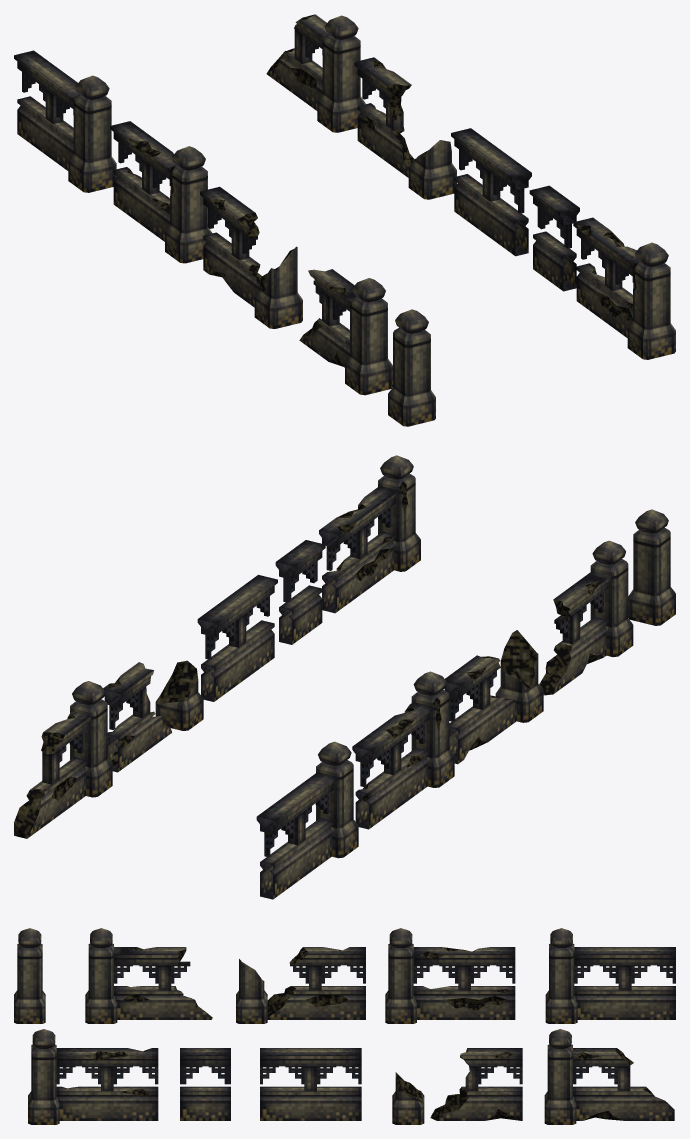
The model's file is EnvMdrMD_Desert_Exterior_Fence_A.FBX.
3 views of the same model, one above another, from view 1: azimuth 30°, elevation 25°; view 2: azimuth 150°, elevation 25°; view 3: azimuth 270°, elevation 25° (orthographic). The views are drawn at different scales.
Visible parts, largest first — view 1: EnvMdrMD_Desert_Exterior_Fence_A, EnvMdrMD_Desert_Exterior_Fence_A_Debris_Loop_A, EnvMdrMD_Desert_Exterior_Fence_A_Debris_Loop_B, EnvMdrMD_Desert_Exterior_Fence_A_Debris_R_A, EnvMdrMD_Desert_Exterior_Fence_A_Debris_L_B, EnvMdrMD_Desert_Exterior_Fence_A_Debris_R_B, EnvMdrMD_Desert_Exterior_Fence_A_Debris_L_A, EnvMdrMD_Desert_Exterior_Fence_B, EnvMdrMD_Desert_Exterior_Fence_Pillar_A, EnvMdrMD_Desert_Exterior_Fence_C; view 2: EnvMdrMD_Desert_Exterior_Fence_A_Debris_Loop_B, EnvMdrMD_Desert_Exterior_Fence_A, EnvMdrMD_Desert_Exterior_Fence_A_Debris_Loop_A, EnvMdrMD_Desert_Exterior_Fence_A_Debris_R_B, EnvMdrMD_Desert_Exterior_Fence_A_Debris_R_A, EnvMdrMD_Desert_Exterior_Fence_A_Debris_L_B, EnvMdrMD_Desert_Exterior_Fence_A_Debris_L_A, EnvMdrMD_Desert_Exterior_Fence_B, EnvMdrMD_Desert_Exterior_Fence_Pillar_A, EnvMdrMD_Desert_Exterior_Fence_C; view 3: EnvMdrMD_Desert_Exterior_Fence_A_Debris_Loop_A, EnvMdrMD_Desert_Exterior_Fence_A, EnvMdrMD_Desert_Exterior_Fence_A_Debris_Loop_B, EnvMdrMD_Desert_Exterior_Fence_A_Debris_R_A, EnvMdrMD_Desert_Exterior_Fence_A_Debris_R_B, EnvMdrMD_Desert_Exterior_Fence_A_Debris_L_B, EnvMdrMD_Desert_Exterior_Fence_B, EnvMdrMD_Desert_Exterior_Fence_A_Debris_L_A, EnvMdrMD_Desert_Exterior_Fence_C, EnvMdrMD_Desert_Exterior_Fence_Pillar_A.
Part boxes in pixels (bbox=[...]): EnvMdrMD_Desert_Exterior_Fence_A: bbox=[14, 50, 116, 192]; EnvMdrMD_Desert_Exterior_Fence_A_Debris_Loop_A: bbox=[573, 217, 675, 359]; EnvMdrMD_Desert_Exterior_Fence_A_Debris_Loop_B: bbox=[110, 121, 212, 263]; EnvMdrMD_Desert_Exterior_Fence_A_Debris_R_A: bbox=[299, 269, 392, 395]; EnvMdrMD_Desert_Exterior_Fence_A_Debris_L_B: bbox=[200, 186, 302, 328]; EnvMdrMD_Desert_Exterior_Fence_A_Debris_R_B: bbox=[266, 14, 365, 132]; EnvMdrMD_Desert_Exterior_Fence_A_Debris_L_A: bbox=[354, 57, 456, 199]; EnvMdrMD_Desert_Exterior_Fence_B: bbox=[451, 128, 531, 256]; EnvMdrMD_Desert_Exterior_Fence_Pillar_A: bbox=[388, 309, 435, 426]; EnvMdrMD_Desert_Exterior_Fence_C: bbox=[529, 185, 579, 291]; EnvMdrMD_Desert_Exterior_Fence_A_Debris_Loop_B: bbox=[352, 671, 454, 829]; EnvMdrMD_Desert_Exterior_Fence_A: bbox=[256, 741, 358, 899]; EnvMdrMD_Desert_Exterior_Fence_A_Debris_Loop_A: bbox=[319, 455, 420, 613]; EnvMdrMD_Desert_Exterior_Fence_A_Debris_R_B: bbox=[14, 681, 112, 838]; EnvMdrMD_Desert_Exterior_Fence_A_Debris_R_A: bbox=[539, 540, 633, 695]; EnvMdrMD_Desert_Exterior_Fence_A_Debris_L_B: bbox=[444, 630, 543, 764]; EnvMdrMD_Desert_Exterior_Fence_A_Debris_L_A: bbox=[103, 660, 203, 772]; EnvMdrMD_Desert_Exterior_Fence_B: bbox=[197, 574, 277, 701]; EnvMdrMD_Desert_Exterior_Fence_Pillar_A: bbox=[628, 509, 675, 625]; EnvMdrMD_Desert_Exterior_Fence_C: bbox=[275, 540, 325, 644]; EnvMdrMD_Desert_Exterior_Fence_A_Debris_Loop_A: bbox=[28, 1029, 158, 1124]; EnvMdrMD_Desert_Exterior_Fence_A: bbox=[545, 928, 675, 1023]; EnvMdrMD_Desert_Exterior_Fence_A_Debris_Loop_B: bbox=[385, 928, 515, 1023]; EnvMdrMD_Desert_Exterior_Fence_A_Debris_R_A: bbox=[85, 928, 212, 1023]; EnvMdrMD_Desert_Exterior_Fence_A_Debris_R_B: bbox=[544, 1029, 674, 1124]; EnvMdrMD_Desert_Exterior_Fence_A_Debris_L_B: bbox=[236, 947, 365, 1023]; EnvMdrMD_Desert_Exterior_Fence_B: bbox=[260, 1048, 361, 1120]; EnvMdrMD_Desert_Exterior_Fence_A_Debris_L_A: bbox=[392, 1048, 522, 1124]; EnvMdrMD_Desert_Exterior_Fence_C: bbox=[180, 1048, 230, 1120]; EnvMdrMD_Desert_Exterior_Fence_Pillar_A: bbox=[14, 928, 45, 1023].
Size of the model in its own units: 426 by 155 by 1042.
Materials: 1 (1 with a texture image).
